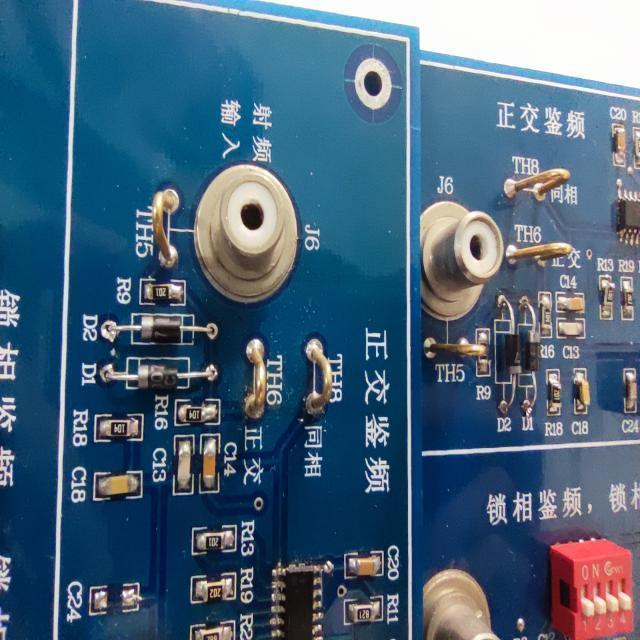Missing component: (59, 575, 151, 626)
